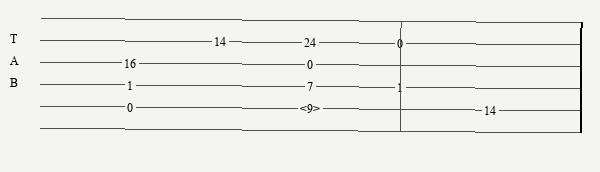0: (127, 102, 137, 115), (307, 58, 317, 71), (397, 36, 407, 49)
1: (127, 80, 137, 93), (397, 80, 407, 93)
14: (214, 36, 230, 49), (484, 102, 500, 115)
16: (124, 58, 140, 71)
24: (304, 36, 320, 49)
7: (307, 80, 317, 93)
harmonic: (300, 102, 324, 115)
